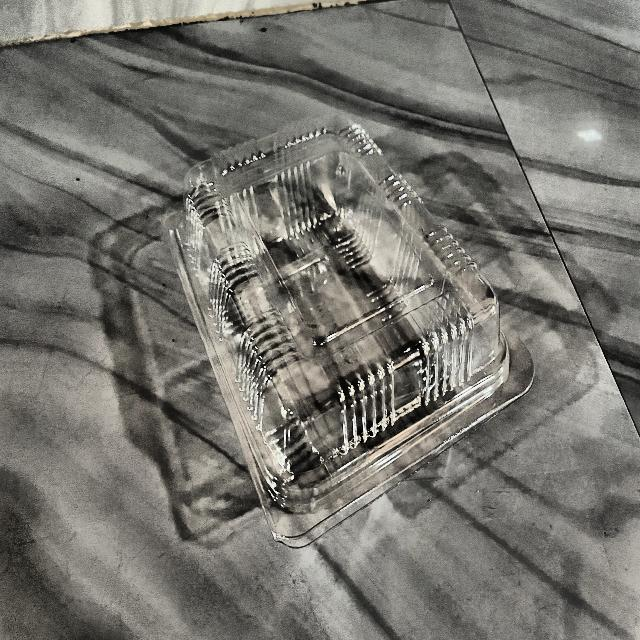plastic container: (159, 120, 522, 558)
